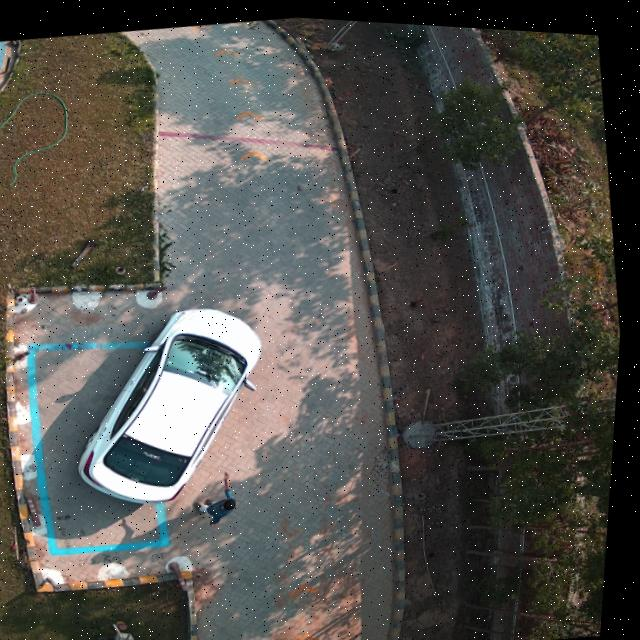car: (85, 305, 265, 502)
